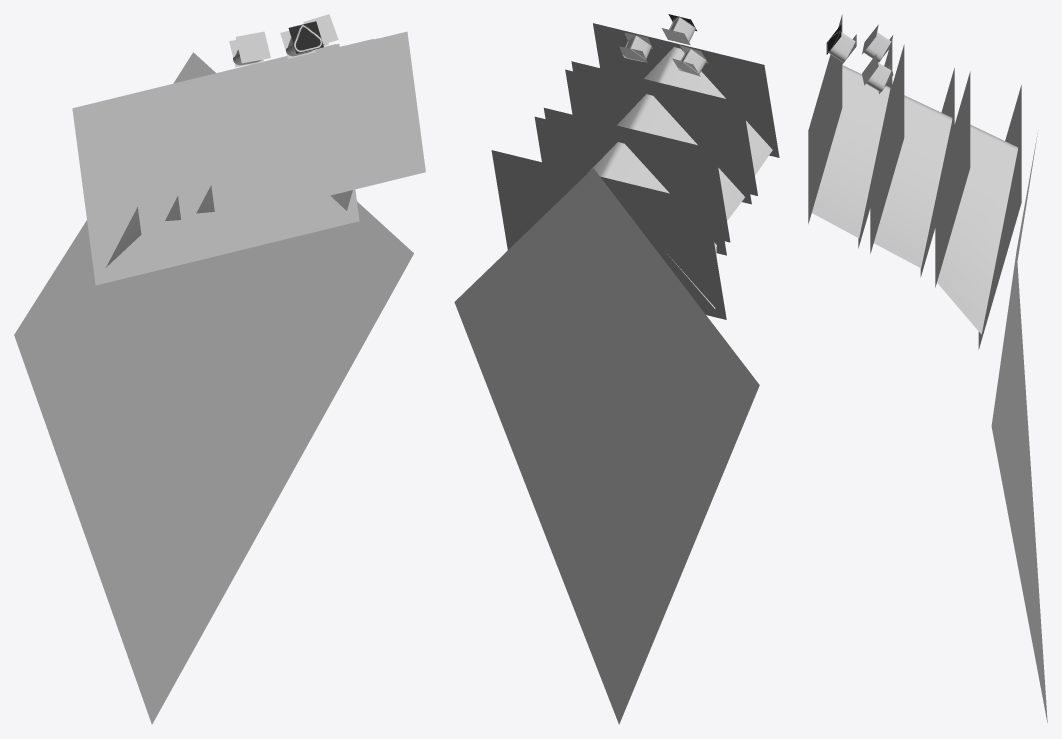
File: ultimo_01.dae
The picture shows the model from 3 angles, left to right: view 1: azimuth 30°, elevation 25°; view 2: azimuth 150°, elevation 25°; view 3: azimuth 270°, elevation 25°; orthographic projection. The views are drawn at different scales.
Parts seen in each view (by area): view 1: Object.2, Object.11, Object.3, Object.7, Object.10, Object.4, Object.9, Object.5, Object.19, megapattern_top; view 2: Object.2, Object.3, Object.9, Object.4, Object.11, Object.7, Object.10, Object.8, Object.6, Object.5; view 3: Object.2, Object.5, Object.8, Object.6, Object.11, Object.4, Object.9, Object.3, Object.7, Object.10.
Boxes of the visible parts, box(x1,y1,x2,y2) form: Object.2: box(14, 52, 413, 724); Object.11: box(198, 31, 425, 223); Object.3: box(72, 44, 359, 285); Object.7: box(136, 45, 344, 237); Object.10: box(169, 38, 378, 229); Object.4: box(123, 44, 339, 241); Object.9: box(164, 39, 373, 230); Object.5: box(106, 190, 352, 267); Object.19: box(235, 31, 270, 63); megapattern_top: box(288, 21, 323, 53); Object.2: box(454, 168, 759, 724); Object.3: box(491, 150, 726, 319); Object.9: box(565, 69, 751, 204); Object.4: box(534, 116, 726, 255); Object.11: box(593, 23, 779, 157); Object.7: box(544, 108, 730, 242); Object.10: box(571, 61, 757, 195); Object.8: box(617, 94, 744, 220); Object.6: box(644, 47, 772, 175); Object.5: box(588, 142, 716, 308); Object.2: box(991, 130, 1047, 722); Object.5: box(937, 124, 1018, 334); Object.8: box(874, 95, 952, 267); Object.6: box(812, 65, 890, 237); Object.11: box(808, 14, 842, 223); Object.4: box(935, 71, 970, 287); Object.9: box(870, 44, 904, 253); Object.3: box(978, 85, 1021, 349); Object.7: box(920, 68, 954, 277); Object.10: box(858, 41, 892, 248).
Size of the model in its own units: 525 by 1003 by 306.
